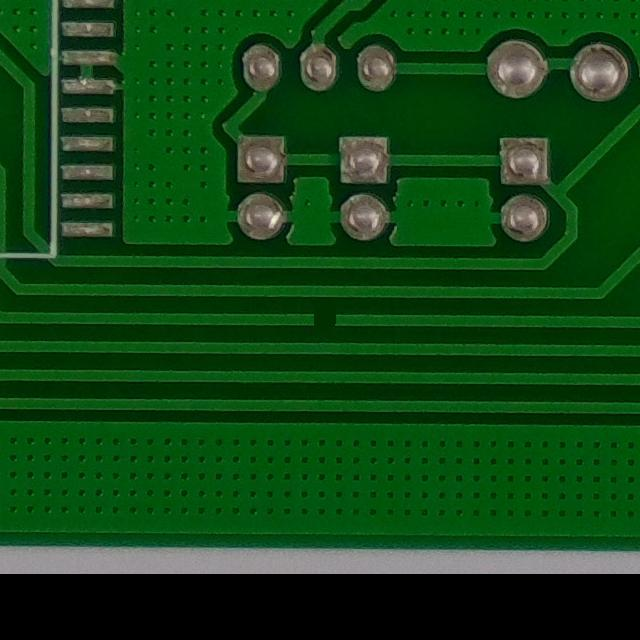open_circuit: (290, 302, 350, 339)
